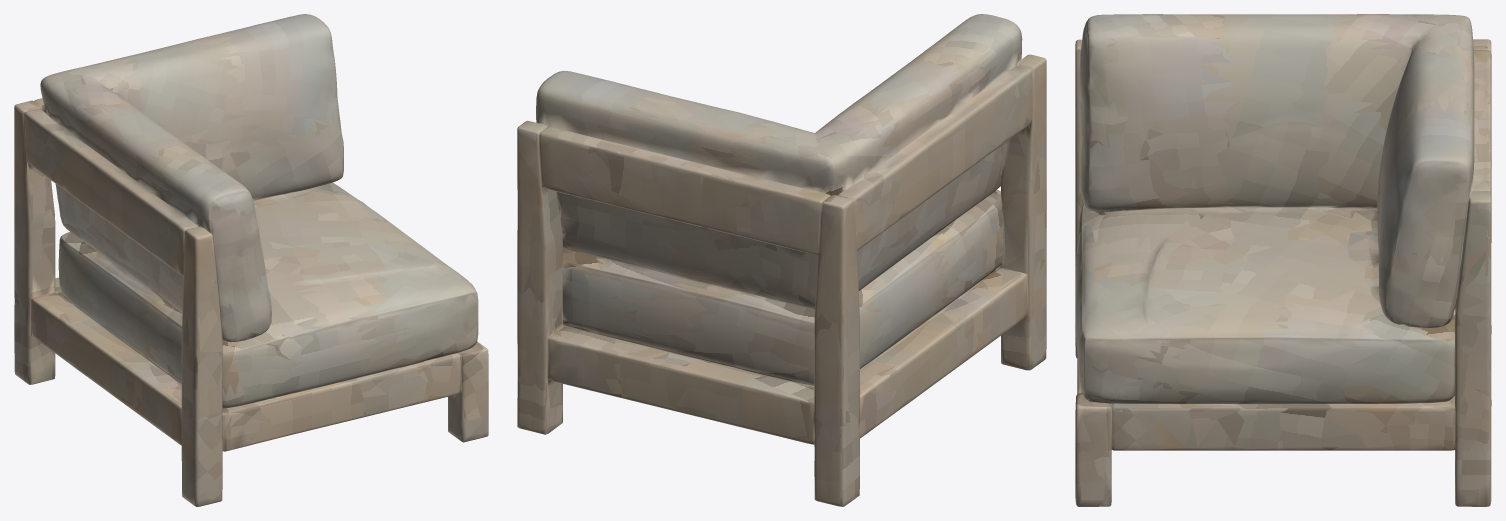
The model's file is JP_사물_s2_prop_sofa_corner.glb.
3 renders of one model, left to right at view 1: azimuth 30°, elevation 25°; view 2: azimuth 150°, elevation 25°; view 3: azimuth 270°, elevation 25°, orthographic. The views are drawn at different scales.
Visible parts, largest first — view 1: tripo_node_87ffa3d2-c4eb-44b5-8675-9bc471be3551; view 2: tripo_node_87ffa3d2-c4eb-44b5-8675-9bc471be3551; view 3: tripo_node_87ffa3d2-c4eb-44b5-8675-9bc471be3551.
Part boxes in pixels (<box>): tripo_node_87ffa3d2-c4eb-44b5-8675-9bc471be3551: <box>14,14,488,506</box>; tripo_node_87ffa3d2-c4eb-44b5-8675-9bc471be3551: <box>517,14,1046,506</box>; tripo_node_87ffa3d2-c4eb-44b5-8675-9bc471be3551: <box>1075,14,1491,506</box>.
Size of the model in its own units: 0.9261 by 0.9161 by 1.
Materials: 1 (1 with a texture image).
